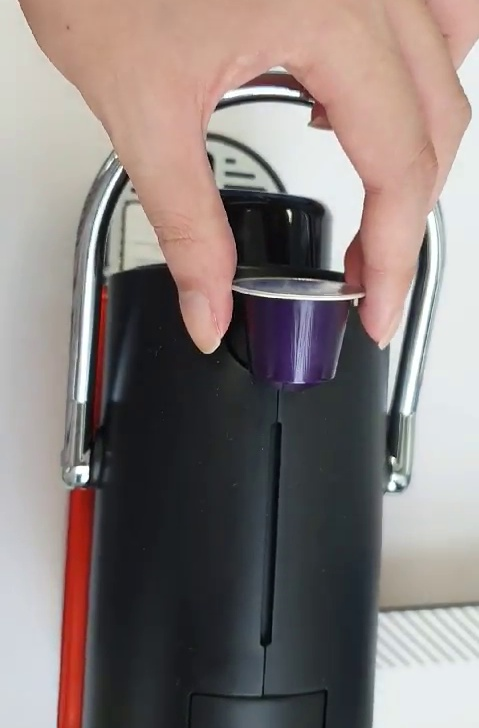capsule_2: (222, 275, 374, 397)
